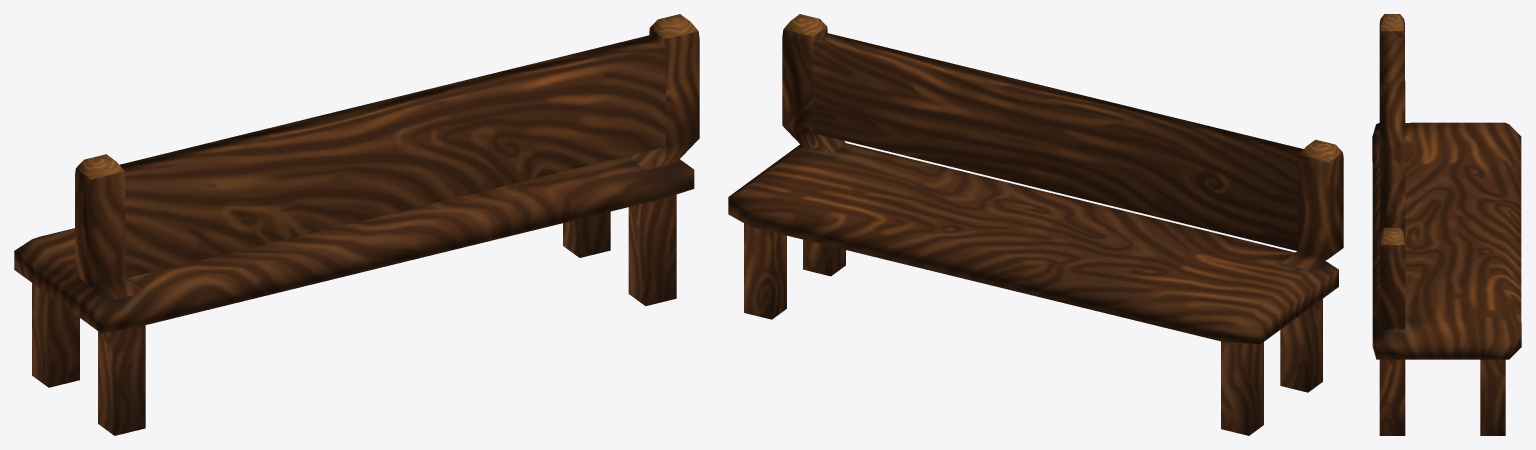
Rendered from FRM0510001.fbx.
3 views of the same model, side by side, from view 1: azimuth 30°, elevation 25°; view 2: azimuth 150°, elevation 25°; view 3: azimuth 270°, elevation 25° (orthographic). The views are drawn at different scales.
Visible parts, largest first — view 1: smFRM0510001; view 2: smFRM0510001; view 3: smFRM0510001.
Part boxes in pixels (x1,y1,x2,y2): smFRM0510001: [14, 14, 699, 435]; smFRM0510001: [728, 14, 1343, 435]; smFRM0510001: [1372, 14, 1521, 435].
Size of the model in its own units: 291 by 124 by 81.03.
Materials: 1 (1 with a texture image).
